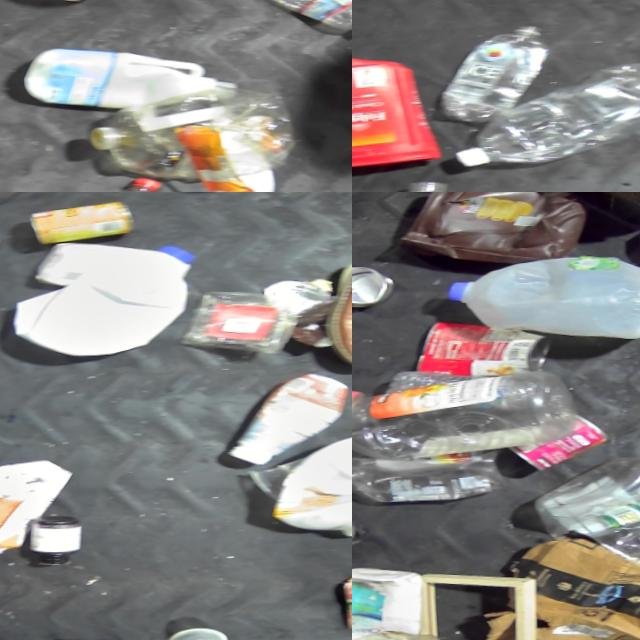can: (415, 319, 553, 382), (507, 414, 607, 474), (32, 200, 132, 245), (352, 261, 388, 314)
milk_jug: (14, 240, 197, 361), (442, 253, 640, 348), (12, 43, 224, 116), (270, 434, 352, 542)
non_white_jug: (396, 192, 594, 268), (352, 52, 446, 183)
plastic_bottle: (91, 76, 292, 191), (352, 369, 576, 461), (456, 63, 640, 173), (423, 21, 550, 130), (352, 445, 501, 510), (249, 0, 352, 37)
